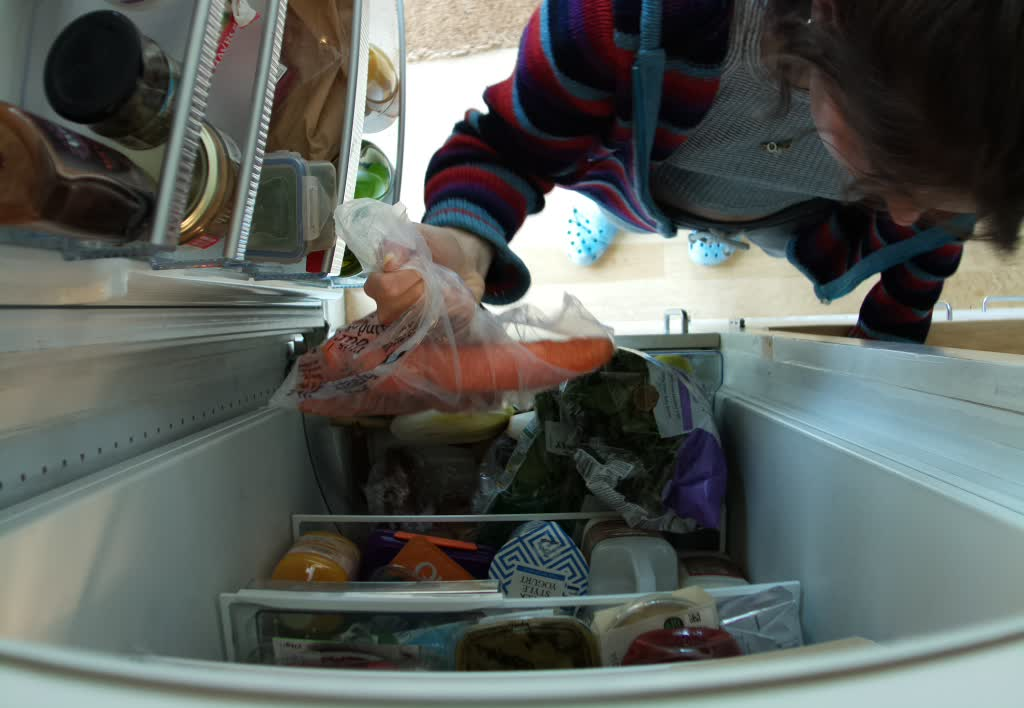carrot: (291, 322, 615, 410)
